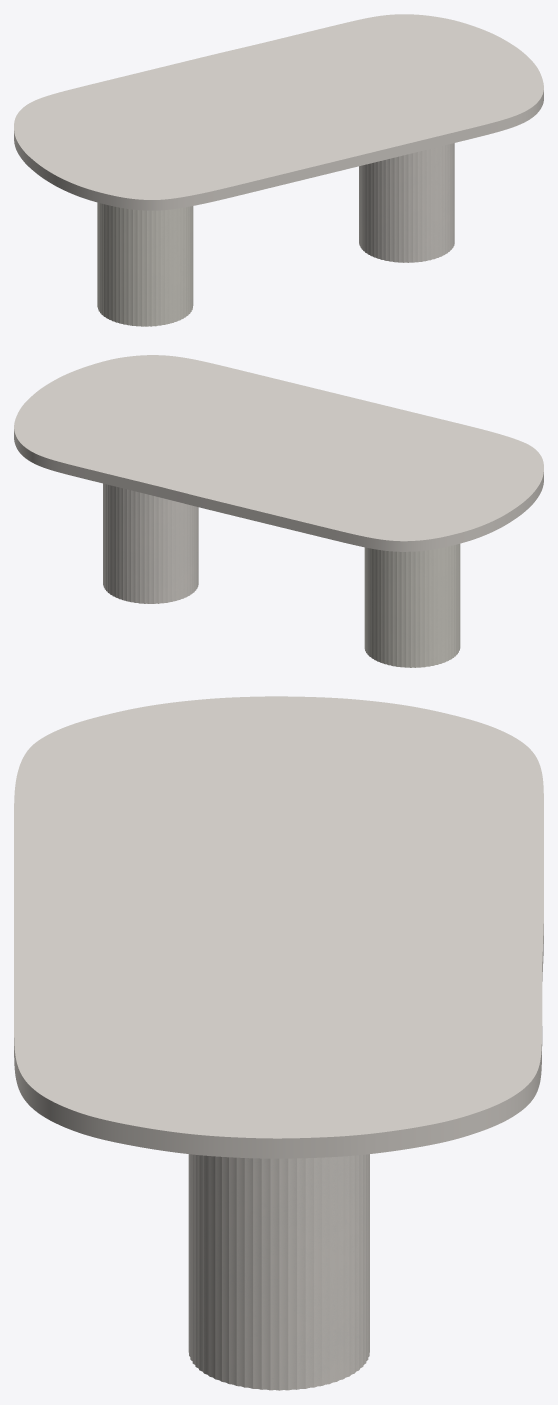
Rendered from pearlwhite_oval_standard_ripplesecond.glb.
3 views of the same model, one above another, from view 1: azimuth 30°, elevation 25°; view 2: azimuth 150°, elevation 25°; view 3: azimuth 270°, elevation 25° (orthographic). The views are drawn at different scales.
Visible parts, largest first — view 1: standard_oval, ripplesecond; view 2: standard_oval, ripplesecond; view 3: standard_oval, ripplesecond.
Boxes of the visible parts, <box> form: standard_oval: <box>14,14,543,210</box>; ripplesecond: <box>97,143,454,326</box>; standard_oval: <box>14,355,543,551</box>; ripplesecond: <box>103,483,460,667</box>; standard_oval: <box>14,696,543,1158</box>; ripplesecond: <box>188,1154,369,1390</box>.
Bounding box in the file's own units: 7.5 × 2.5 × 3.8.
Materials: 2 (2 with a texture image).
